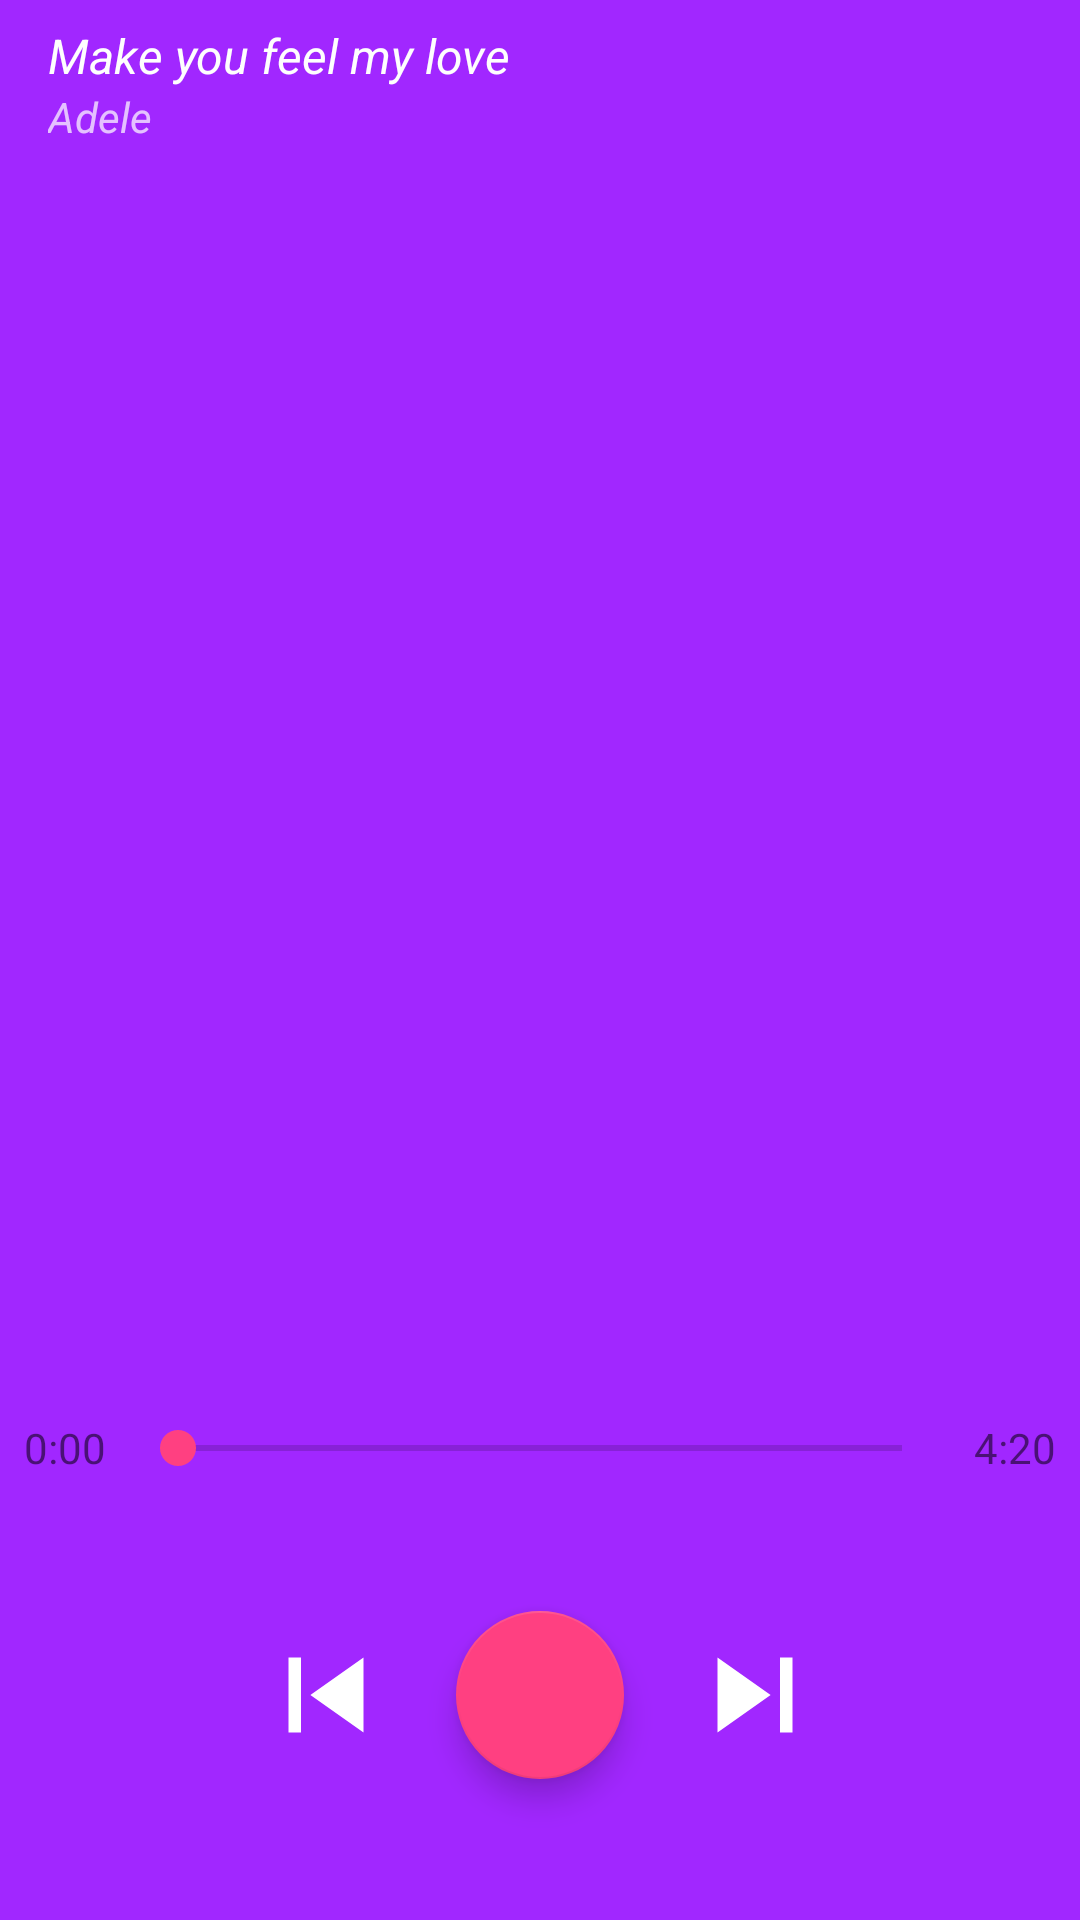

Icons on this 1080 × 1920 Android screen, each with the point to tap as point (x, y):
skip next: point (755, 1695)
skip previous: point (326, 1695)
